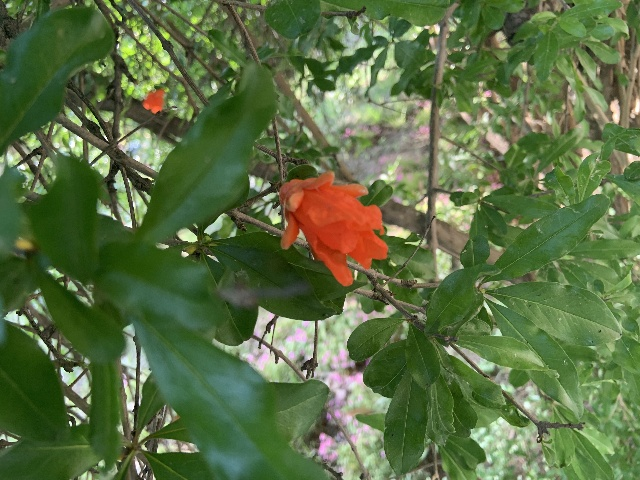flower: (277, 169, 387, 285), (143, 89, 165, 113)
